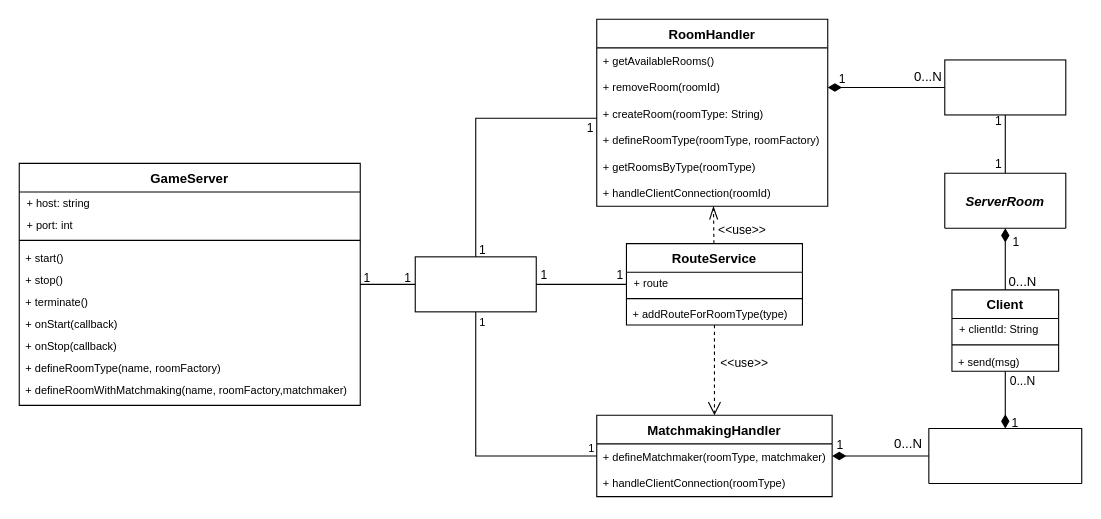
Some shapes in this 1101 by 519 pixel diagram are drawn without their labels. Each missing label, with the centre of its shape:
MatchmakingService: the point at 1005,455
RoomActor: the point at 1005,87
ServerActor: the point at 475,284
